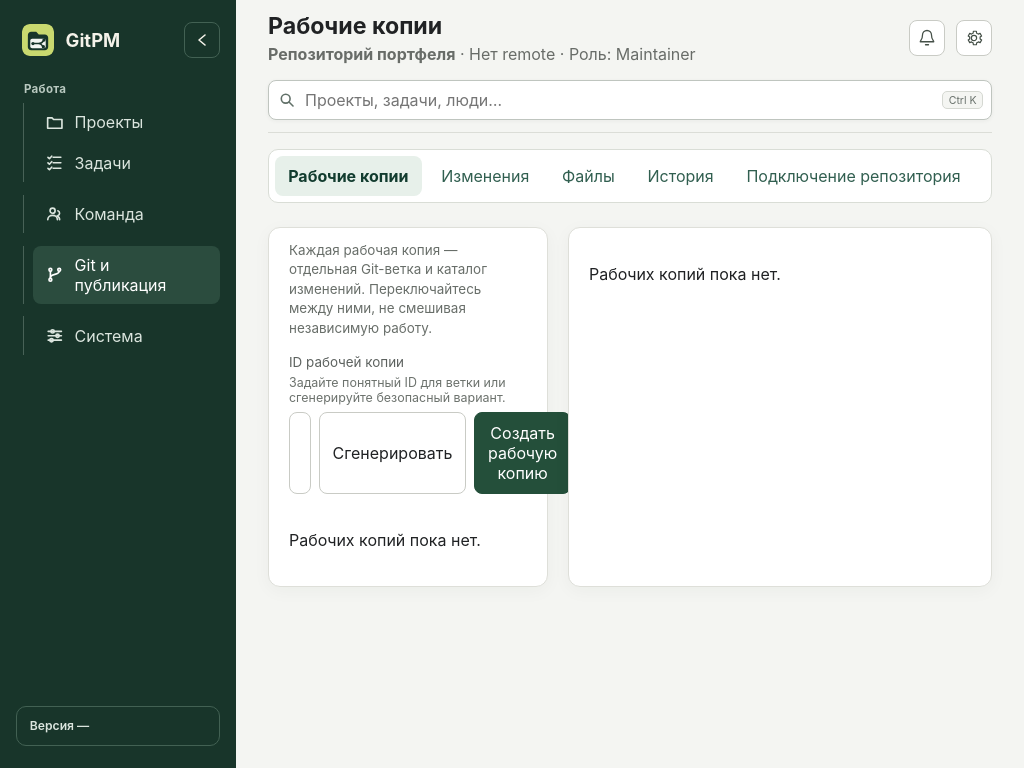
it: frontend draft lifecycle › persists locale and changes lang/dir without changing API payloads
Expected: the heading "Рабочие копии" is shown, [268,12,442,40]
Step 1. Click the heading named "Настройки интерфейса" → (974, 38), box [956,20,992,56]
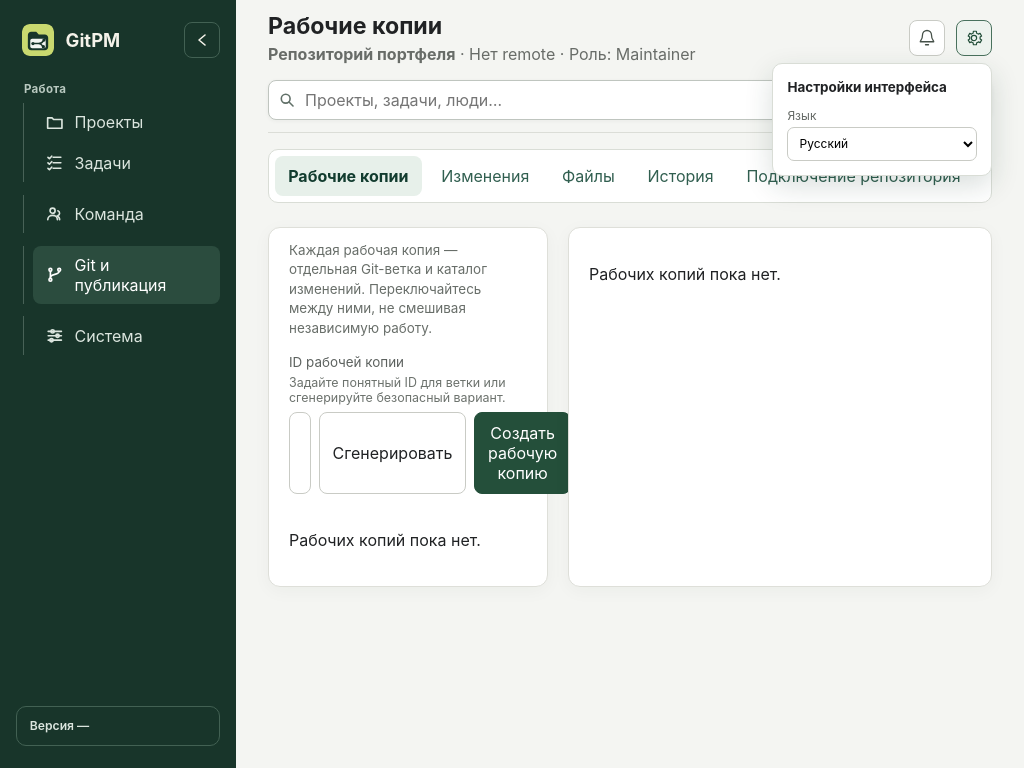
Step 2. Select "English" in the dropdown labelled "Язык" → (882, 144), box [787,127,977,161]
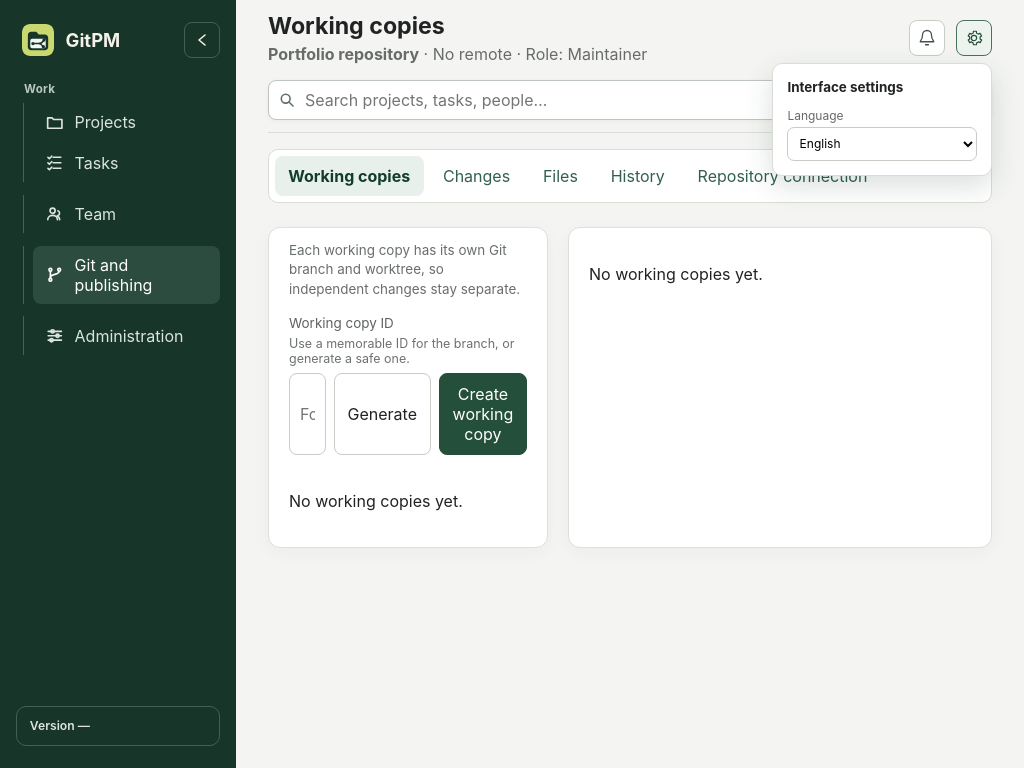
Expected: the heading "Working copies" is shown, [268,12,445,40]
